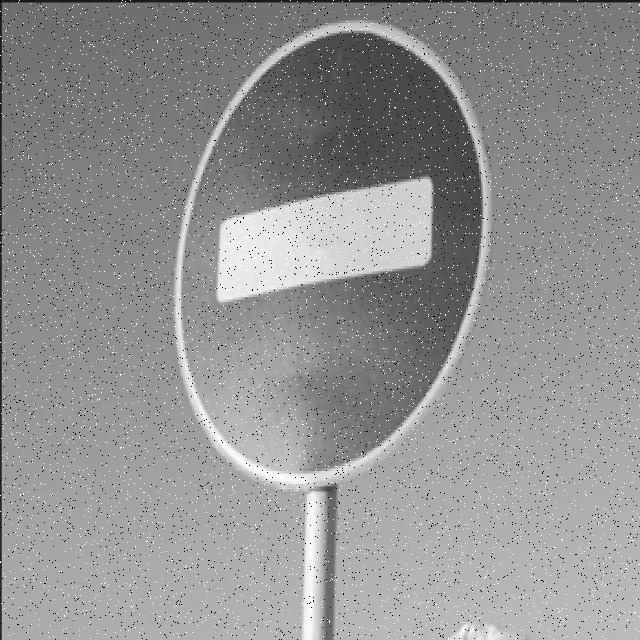no entry: (172, 21, 492, 492)
